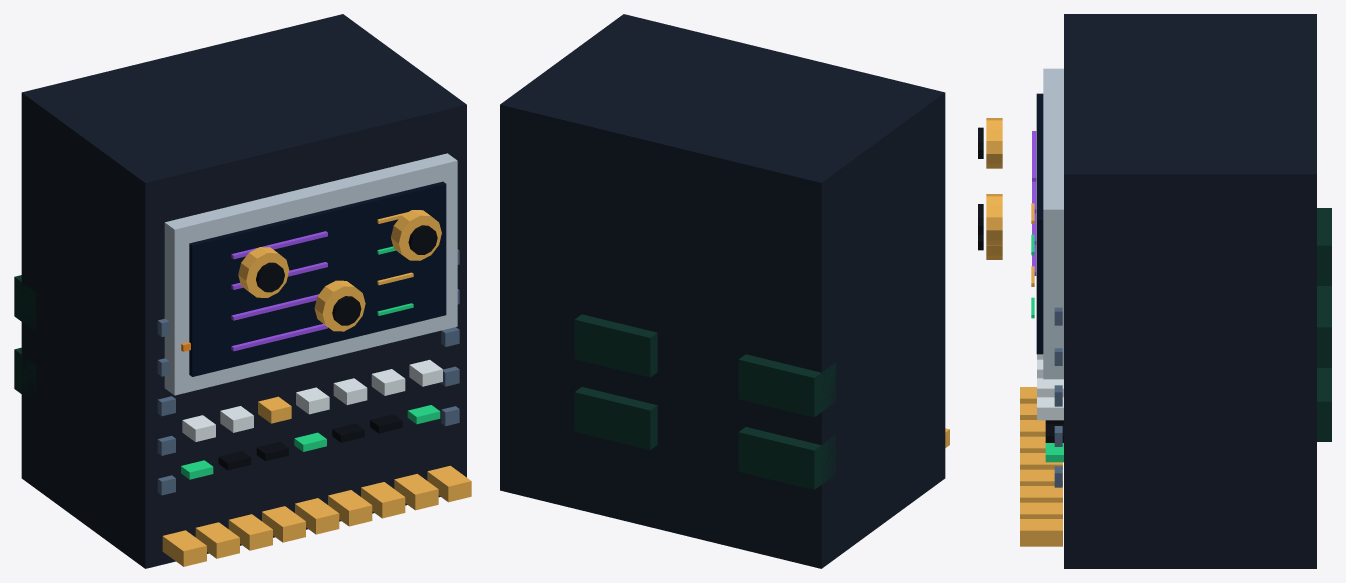
The model's file is 48_L91_TimeReferenceSwitchingPanel.fbx.
The picture shows the model from 3 angles, left to right: view 1: azimuth 30°, elevation 25°; view 2: azimuth 150°, elevation 25°; view 3: azimuth 270°, elevation 25°; orthographic projection. The views are drawn at different scales.
Visible parts, largest first — view 1: L91_TimeReferenceSwitchingPanel, L91_TimeReferenceSwitchingPanel_Part_0014, L91_TimeReferenceSwitchingPanel_Part_0016, L91_TimeReferenceSwitchingPanel_Part_0012, L91_TimeReferenceSwitchingPanel_Part_0013, L91_TimeReferenceSwitchingPanel_Part_0015, L91_TimeReferenceSwitchingPanel_Part_0017; view 2: L91_TimeReferenceSwitchingPanel; view 3: L91_TimeReferenceSwitchingPanel, L91_TimeReferenceSwitchingPanel_Part_0012, L91_TimeReferenceSwitchingPanel_Part_0016.
Boxes of the visible parts, box(x1,y1,x2,y2) form: L91_TimeReferenceSwitchingPanel: box(14, 14, 471, 568); L91_TimeReferenceSwitchingPanel_Part_0014: box(314, 280, 365, 331); L91_TimeReferenceSwitchingPanel_Part_0016: box(391, 210, 441, 260); L91_TimeReferenceSwitchingPanel_Part_0012: box(238, 247, 289, 297); L91_TimeReferenceSwitchingPanel_Part_0013: box(256, 262, 284, 292); L91_TimeReferenceSwitchingPanel_Part_0015: box(332, 296, 361, 325); L91_TimeReferenceSwitchingPanel_Part_0017: box(408, 225, 437, 254); L91_TimeReferenceSwitchingPanel: box(500, 14, 949, 568); L91_TimeReferenceSwitchingPanel: box(1020, 14, 1331, 568); L91_TimeReferenceSwitchingPanel_Part_0012: box(986, 118, 1002, 168); L91_TimeReferenceSwitchingPanel_Part_0016: box(986, 194, 1002, 244).
Size of the model in its own units: 96.9 by 111 by 90.3.
